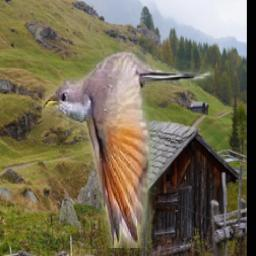Cuckoo: (42, 51, 214, 249)
